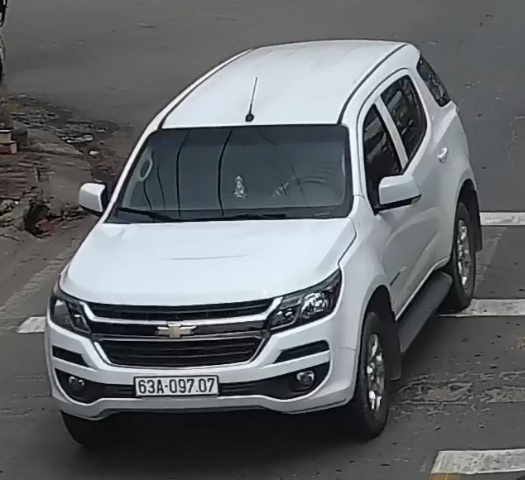vehicle plate: (127, 371, 221, 398)
